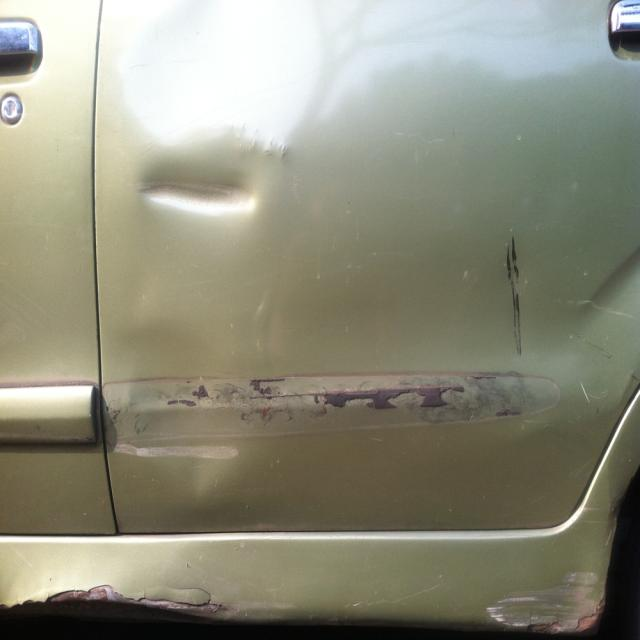Cabossage: (118, 0, 315, 149), (114, 318, 248, 508), (134, 163, 273, 236)
Rayure: (0, 575, 611, 633), (107, 365, 528, 436), (506, 229, 525, 360)
